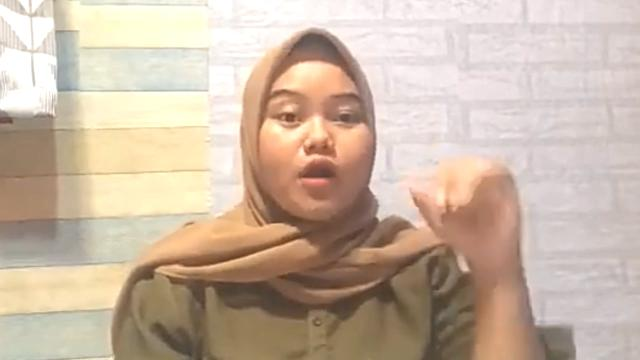A: (408, 155, 526, 269)
